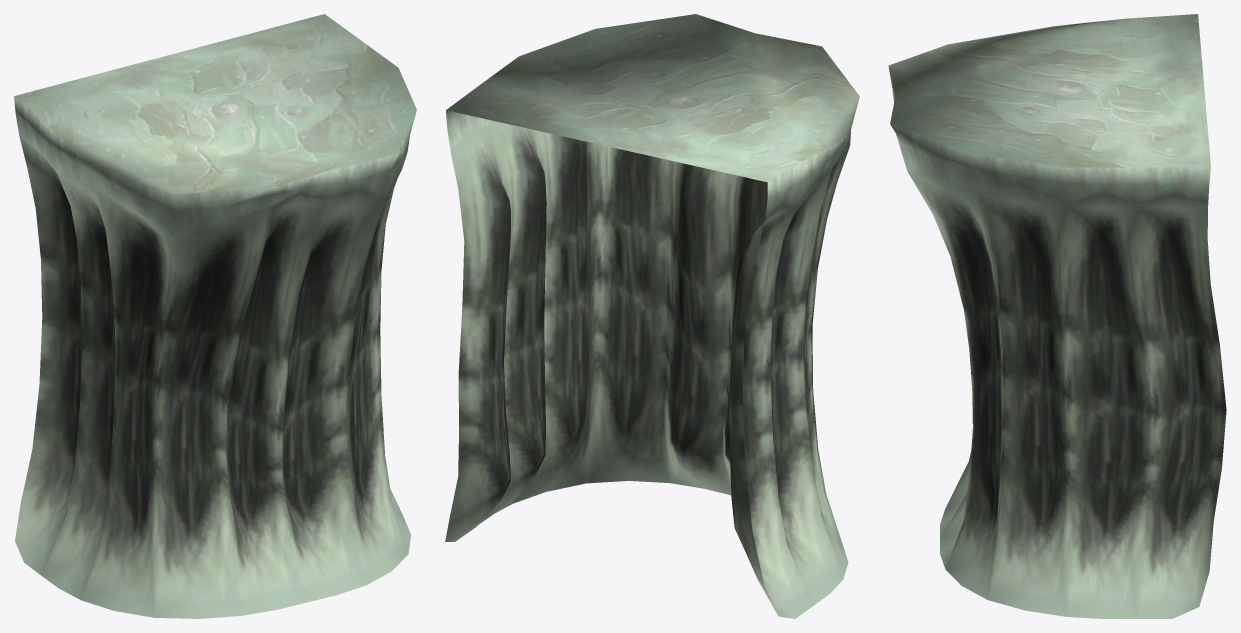
The model's file is TROLLHOLE02_MAINCAVEPLATFORM06B.fbx.
3 renders of one model, left to right at view 1: azimuth 30°, elevation 25°; view 2: azimuth 150°, elevation 25°; view 3: azimuth 270°, elevation 25°, orthographic.
Visible parts, largest first — view 1: TROLLHOLE02_MAINCAVEPLATFORM06B; view 2: TROLLHOLE02_MAINCAVEPLATFORM06B; view 3: TROLLHOLE02_MAINCAVEPLATFORM06B.
Boxes of the visible parts, <box> form: TROLLHOLE02_MAINCAVEPLATFORM06B: <box>14,14,416,618</box>; TROLLHOLE02_MAINCAVEPLATFORM06B: <box>445,14,859,618</box>; TROLLHOLE02_MAINCAVEPLATFORM06B: <box>888,14,1226,618</box>.
Bounding box in the file's own units: 33218 × 42531 × 29180.
Materials: 2 (2 with a texture image).
